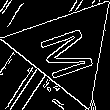M_E: (33, 19, 100, 80)
